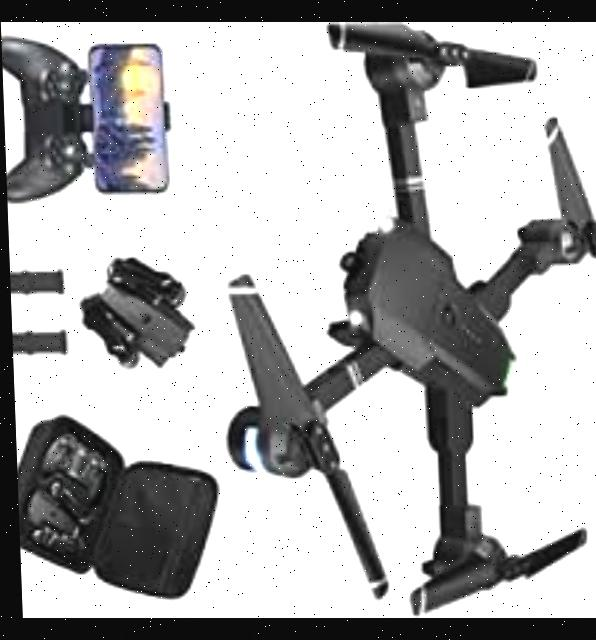drone: (201, 22, 596, 618)
